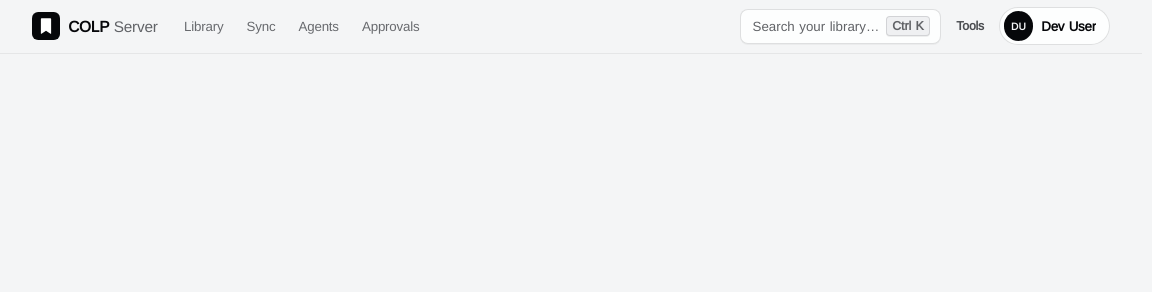
Test: Write approvals navigation › exposes the approvals destination from the account menu
What coordinates should you click on to do the following:
click the button with test id "account-trigger"
I would click on:
 (1055, 26)
Its box is [1000,7,1110,46].
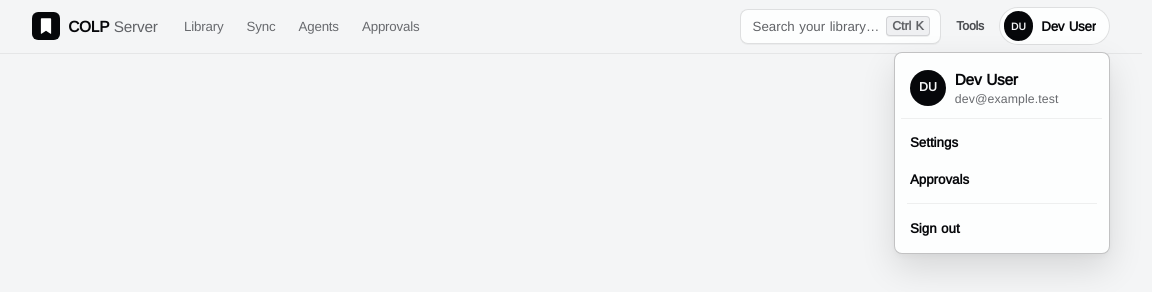
Now the link to "/approvals" is shown, box [910,171,969,187]
